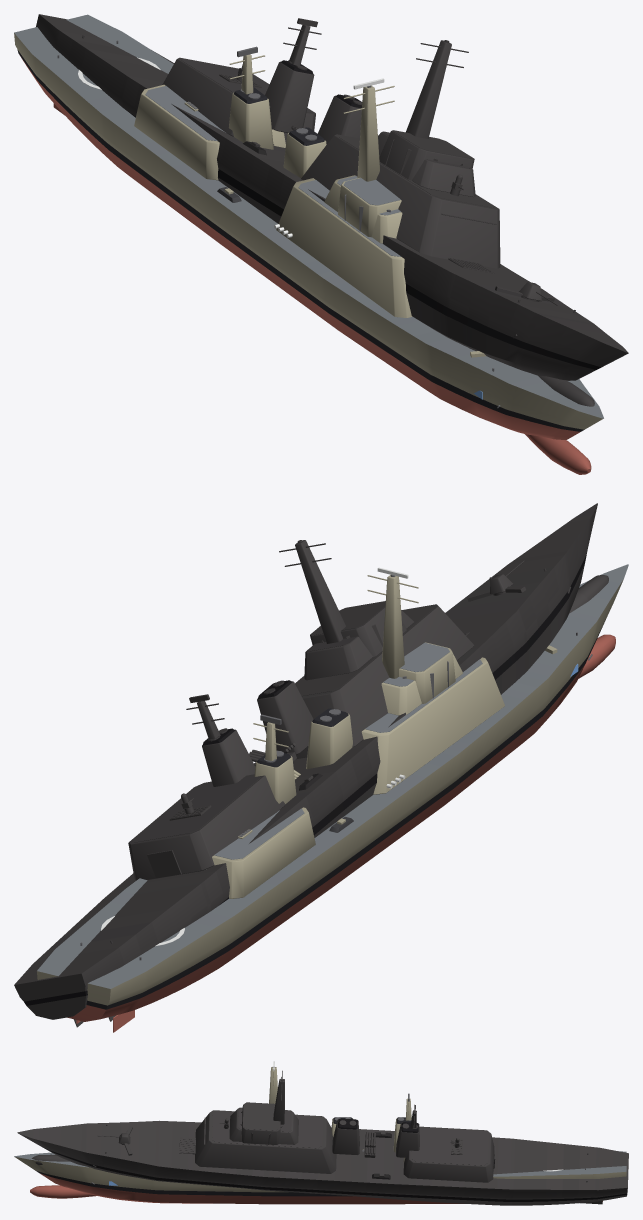
File: aegisCruiser__maya_class_aegis_destroyer.glb
The picture shows the model from 3 angles, top to bottom: view 1: azimuth 30°, elevation 25°; view 2: azimuth 150°, elevation 25°; view 3: azimuth 270°, elevation 25°; orthographic projection. The views are drawn at different scales.
Parts seen in each view (by area): view 1: Hull_Mesh, Wreck; view 2: Wreck, Hull_Mesh; view 3: Wreck, Hull_Mesh.
Part boxes in pixels (x1,y1,x2,y2): Hull_Mesh: [14, 14, 603, 474]; Wreck: [36, 14, 628, 406]; Wreck: [14, 503, 608, 1027]; Hull_Mesh: [37, 564, 628, 1032]; Wreck: [17, 1070, 628, 1205]; Hull_Mesh: [14, 1067, 626, 1204].
Size of what is drawn, in the model's own units: 30.23 by 46.19 by 178.
